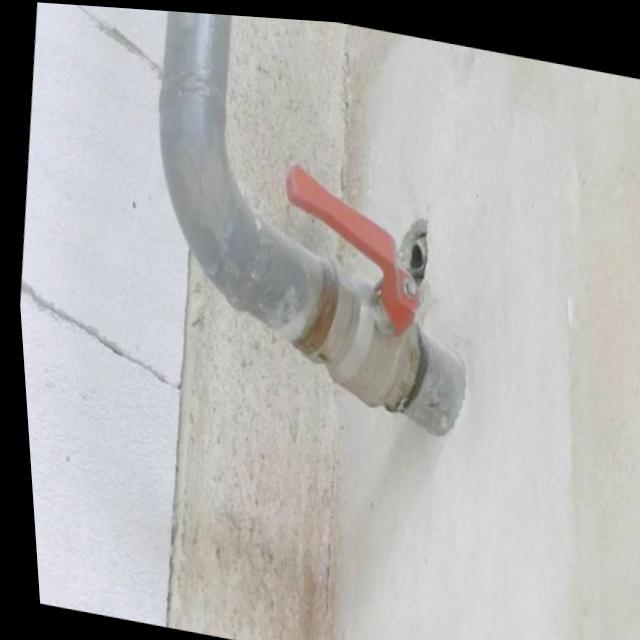leak: (399, 220, 426, 287)
